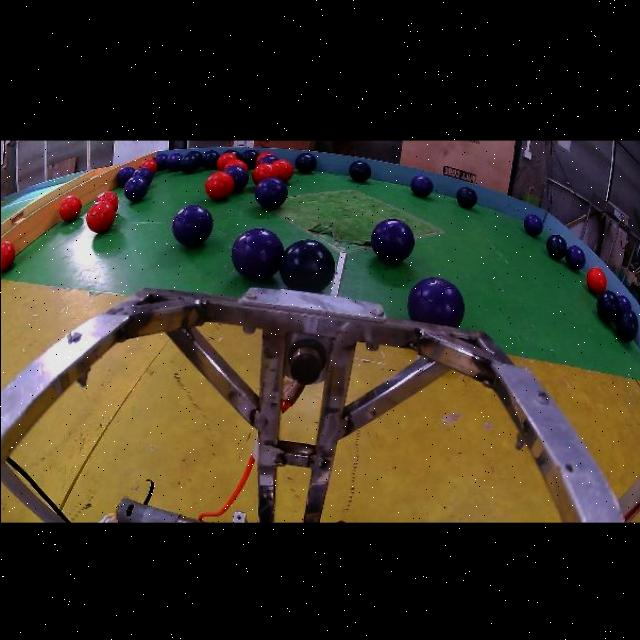B: (277, 239, 335, 291), (254, 177, 287, 207), (596, 290, 619, 322), (615, 310, 638, 342), (224, 165, 248, 191), (348, 159, 370, 182), (178, 150, 200, 173), (546, 234, 566, 259), (295, 153, 316, 173), (456, 186, 475, 207), (239, 148, 258, 169), (200, 149, 219, 169)
P: (406, 276, 464, 327), (230, 227, 283, 279), (370, 218, 413, 262), (115, 165, 151, 201), (254, 177, 287, 207), (224, 165, 248, 191), (153, 151, 182, 171), (409, 175, 432, 197), (565, 245, 584, 270), (523, 214, 542, 237), (616, 294, 631, 310), (258, 154, 277, 163), (223, 148, 240, 157)
